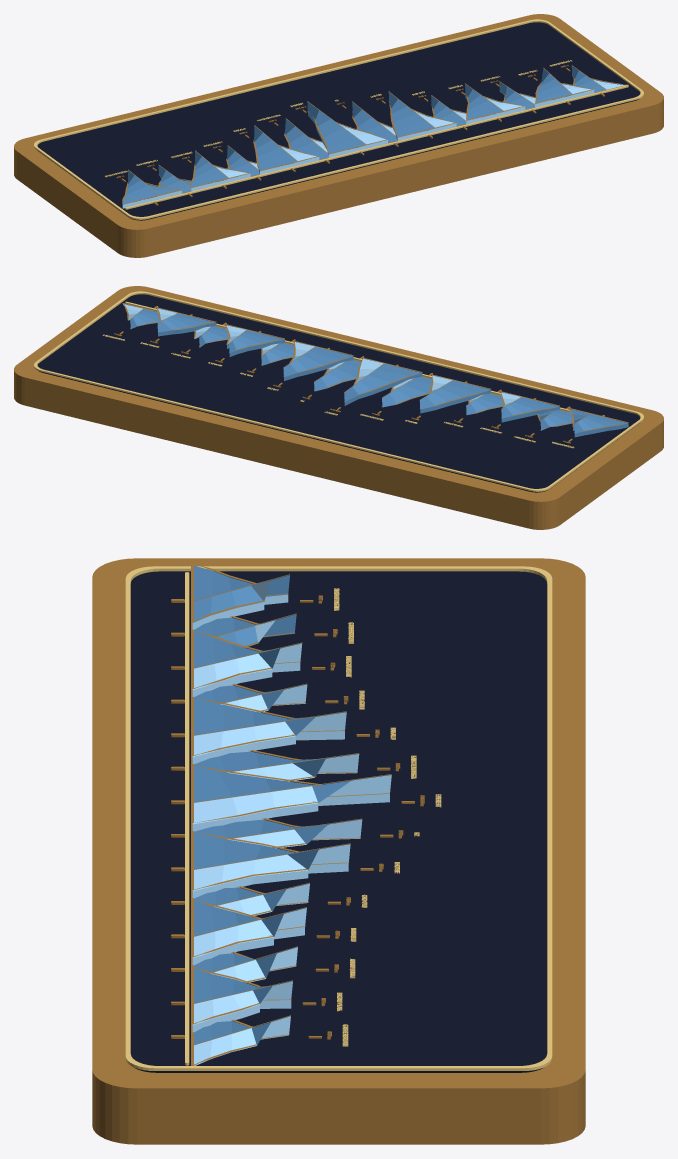
Rendered from fourteen_peaks.glb.
The picture shows the model from 3 angles, top to bottom: view 1: azimuth 30°, elevation 25°; view 2: azimuth 150°, elevation 25°; view 3: azimuth 270°, elevation 25°; orthographic projection. The views are drawn at different scales.
Parts seen in each view (by area): view 1: FP_Field, FP_Frame, FP_Lip, FP_Peak_6, FP_BaseLine, FP_Peak_8, FP_Peak_4, FP_Peak_10, FP_Peak_2, FP_Peak_12, FP_Peak_0, FP_Peak_5 (+6 smaller); view 2: FP_Field, FP_Frame, FP_Lip, FP_Peak_6, FP_Peak_8, FP_Peak_4, FP_Peak_2, FP_Peak_10, FP_Peak_12, FP_Peak_0, FP_Peak_5, FP_Peak_7 (+5 smaller); view 3: FP_Field, FP_Frame, FP_Lip, FP_Peak_6, FP_Peak_8, FP_Peak_4, FP_Peak_10, FP_Peak_2, FP_Peak_12, FP_Peak_0, FP_Peak_5, FP_Peak_7 (+6 smaller).
Part boxes in pixels (x1,y1,x2,y2): FP_Field: (37, 22, 640, 220); FP_Frame: (14, 14, 663, 257); FP_Lip: (34, 19, 643, 219); FP_Peak_6: (307, 101, 387, 157); FP_BaseLine: (125, 85, 628, 209); FP_Peak_8: (388, 92, 456, 140); FP_Peak_4: (254, 125, 319, 174); FP_Peak_10: (465, 84, 525, 124); FP_Peak_2: (191, 151, 250, 191); FP_Peak_12: (535, 68, 594, 107); FP_Peak_0: (122, 170, 181, 208); FP_Peak_5: (285, 119, 328, 162); FP_Field: (37, 294, 640, 492); FP_Frame: (14, 286, 663, 529); FP_Lip: (34, 291, 643, 491); FP_Peak_6: (344, 358, 422, 405); FP_Peak_8: (283, 342, 353, 380); FP_Peak_4: (419, 375, 490, 413); FP_Peak_2: (500, 392, 559, 422); FP_Peak_10: (225, 325, 284, 356); FP_Peak_12: (157, 308, 216, 336); FP_Peak_0: (569, 409, 628, 437); FP_Peak_5: (382, 376, 431, 407); FP_Peak_7: (314, 360, 360, 391); FP_Field: (130, 571, 547, 1072); FP_Frame: (92, 558, 585, 1144); FP_Lip: (125, 566, 552, 1070); FP_Peak_6: (192, 767, 391, 831); FP_Peak_8: (192, 834, 350, 898); FP_Peak_4: (192, 699, 346, 764); FP_Peak_10: (192, 901, 306, 965); FP_Peak_2: (192, 633, 302, 696); FP_Peak_12: (192, 968, 292, 1032); FP_Peak_0: (192, 566, 289, 629); FP_Peak_5: (194, 751, 359, 781); FP_Peak_7: (194, 819, 362, 848).
Bounding box in the file's own units: 0.0788 × 0.00606 × 0.031.
